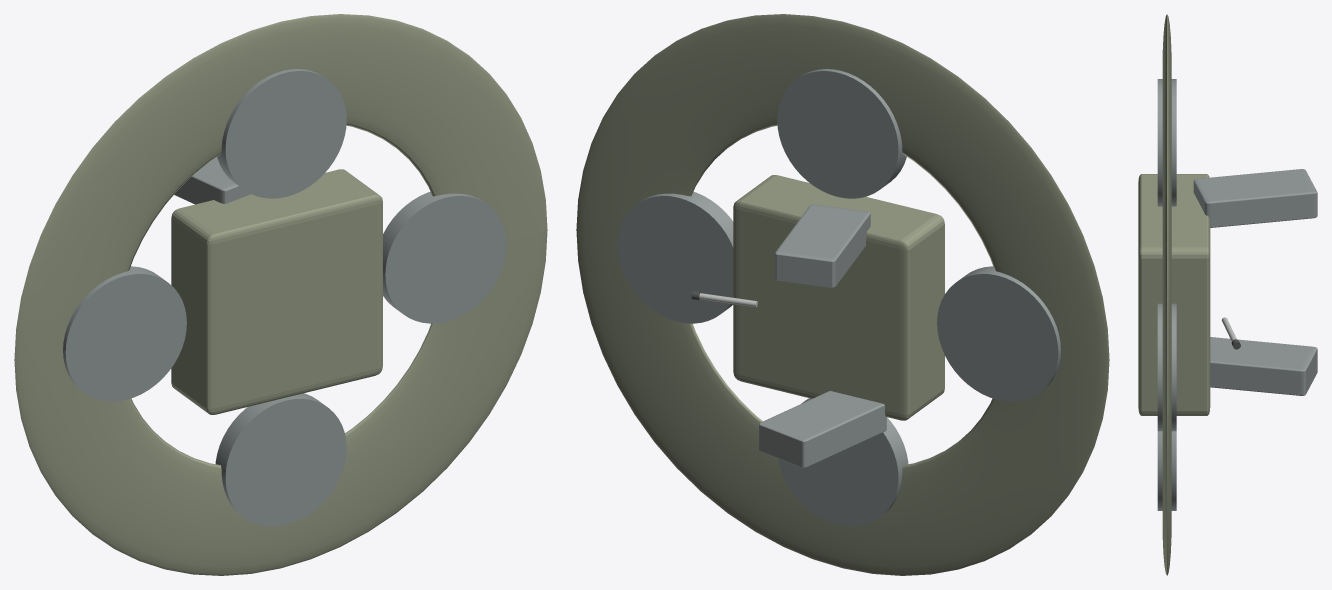
Rendered from v-u28-vanguard-repair-drone-lod1.glb.
3 renders of one model, left to right at view 1: azimuth 30°, elevation 25°; view 2: azimuth 150°, elevation 25°; view 3: azimuth 270°, elevation 25°, orthographic. The views are drawn at different scales.
Visible parts, largest first — view 1: drone_ring, drone_core, drone_fan_3, drone_fan_0, drone_fan_1, drone_fan_2, service_claw_1; view 2: drone_ring, drone_core, drone_fan_1, drone_fan_2, drone_fan_0, drone_fan_3, service_claw_-1, service_claw_1; view 3: drone_core, service_claw_1, drone_ring, service_claw_-1, drone_fan_0, drone_fan_1, drone_fan_3.
Part boxes in pixels (x1,y1,x2,y2): drone_ring: (14,14,547,575); drone_core: (171,169,382,414); drone_fan_3: (215,393,346,526); drone_fan_0: (383,191,506,323); drone_fan_1: (217,69,346,198); drone_fan_2: (63,266,186,401); service_claw_1: (174,157,250,204); drone_ring: (576,14,1109,575); drone_core: (733,175,944,420); drone_fan_1: (777,69,906,198); drone_fan_2: (937,266,1060,401); drone_fan_0: (617,191,733,323); drone_fan_3: (778,398,908,526); service_claw_-1: (759,391,886,467); service_claw_1: (775,204,870,287); drone_core: (1138,174,1210,415); service_claw_1: (1193,169,1317,227); drone_ring: (1162,14,1171,575); service_claw_-1: (1210,337,1317,395); drone_fan_0: (1157,303,1176,431); drone_fan_1: (1157,79,1176,206); drone_fan_3: (1157,431,1176,510).
Size of what is drawn, in the model's own units: 5.61 by 5.5 by 1.76.
